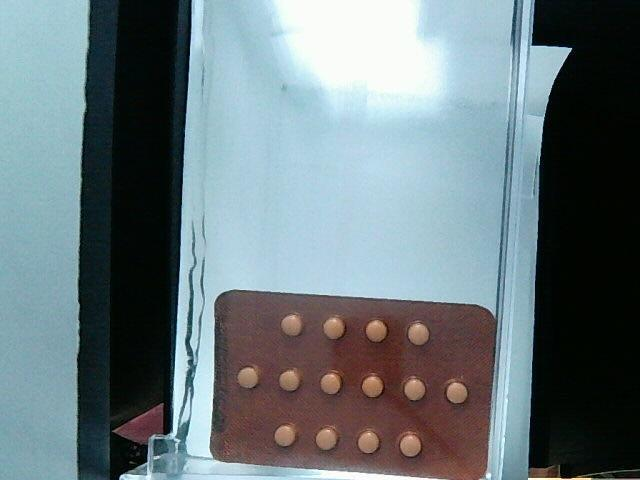Light Front: (208, 290, 496, 480)
Pill Front: (279, 311, 306, 341), (314, 372, 343, 399), (359, 373, 387, 400), (404, 322, 432, 347), (355, 429, 383, 454), (236, 364, 262, 390), (364, 319, 390, 344), (398, 435, 425, 459), (320, 317, 346, 341), (314, 426, 338, 452), (401, 377, 426, 400), (445, 379, 468, 404), (274, 424, 297, 447), (277, 370, 301, 390)
